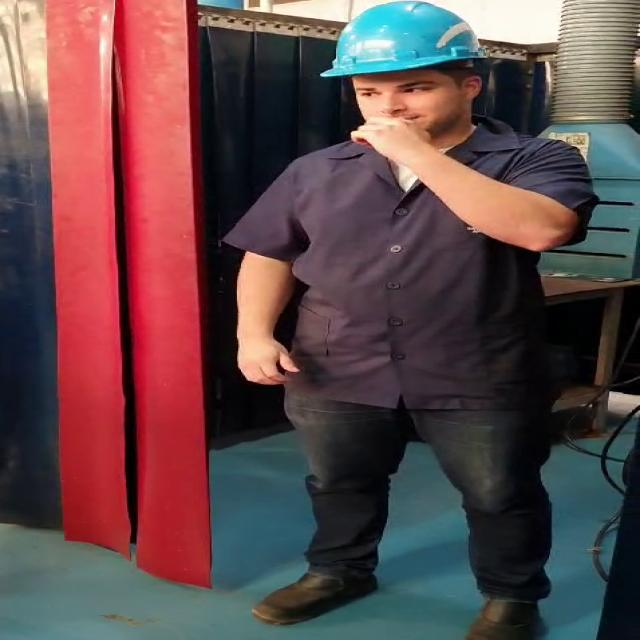sem_oculos: (342, 82, 504, 105)
